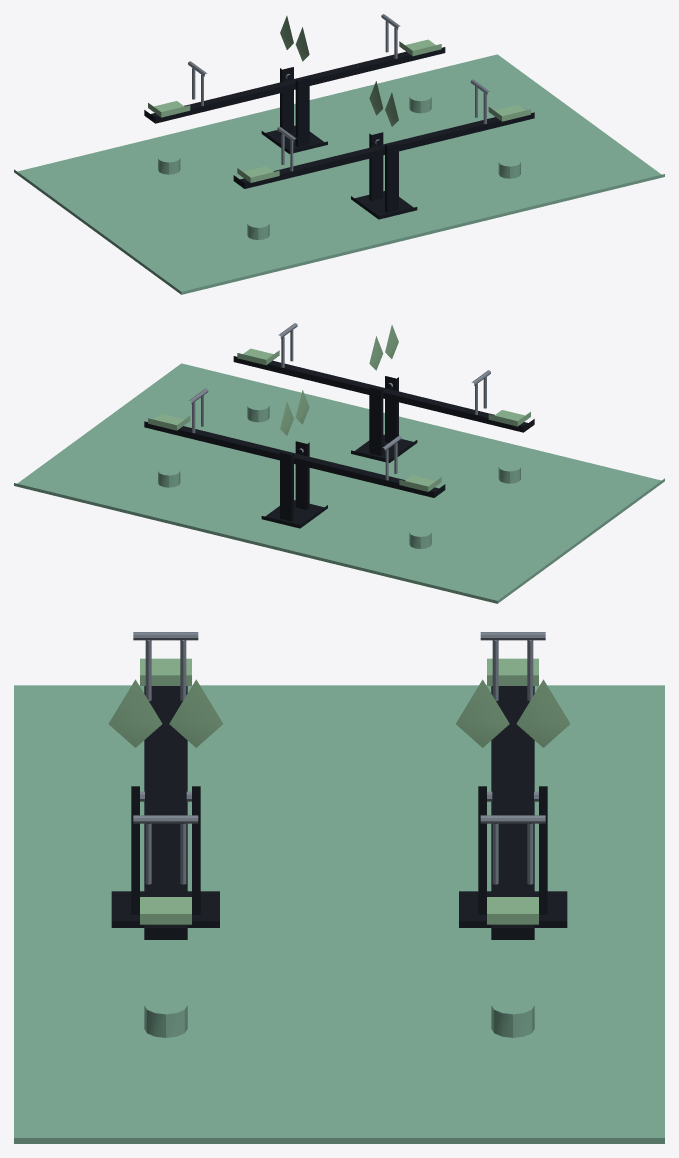
The picture shows the model from 3 angles, top to bottom: view 1: azimuth 30°, elevation 25°; view 2: azimuth 150°, elevation 25°; view 3: azimuth 270°, elevation 25°; orthographic projection. The views are drawn at different scales.
Parts seen in each view (by area): view 1: Safety_Pad, Seesaw1_Beam, Seesaw2_Beam, Fulcrum2, Fulcrum1, Seesaw2_Seats, Seesaw1_Seats, Seesaw2_Handles, Seesaw1_Handles, Bumpers2, Bumpers1, Leaf_Crests2 (+1 smaller); view 2: Safety_Pad, Seesaw2_Beam, Seesaw1_Beam, Fulcrum1, Fulcrum2, Seesaw1_Seats, Seesaw2_Seats, Seesaw1_Handles, Seesaw2_Handles, Bumpers1, Bumpers2, Leaf_Crests1 (+1 smaller); view 3: Safety_Pad, Seesaw1_Beam, Seesaw2_Beam, Fulcrum1, Fulcrum2, Leaf_Crests1, Leaf_Crests2, Seesaw1_Handles, Seesaw2_Handles, Seesaw1_Seats, Seesaw2_Seats, Bumpers1 (+1 smaller).
Part boxes in pixels (x1,y1,x2,y2): Safety_Pad: (14,54,664,294); Seesaw1_Beam: (144,47,445,123); Seesaw2_Beam: (233,112,534,188); Fulcrum2: (351,132,417,219); Fulcrum1: (261,67,327,153); Seesaw2_Seats: (237,105,530,182); Seesaw1_Seats: (148,39,441,117); Seesaw2_Handles: (277,79,489,171); Seesaw1_Handles: (188,14,400,105); Bumpers2: (247,162,520,239); Bumpers1: (158,97,431,174); Leaf_Crests2: (369,81,398,126); Safety_Pad: (14,363,664,603); Seesaw2_Beam: (233,356,534,432); Seesaw1_Beam: (144,421,445,497); Fulcrum1: (261,441,327,528); Fulcrum2: (351,376,417,462); Seesaw1_Seats: (148,414,441,491); Seesaw2_Seats: (237,348,530,426); Seesaw1_Handles: (189,388,401,480); Seesaw2_Handles: (278,323,490,414); Bumpers1: (158,471,431,548); Bumpers2: (247,406,520,483); Leaf_Crests1: (280,390,309,435); Safety_Pad: (14,685,664,1143); Seesaw1_Beam: (491,686,534,939); Seesaw2_Beam: (144,686,187,939); Fulcrum1: (459,786,567,927); Fulcrum2: (111,786,219,927); Leaf_Crests1: (456,679,570,747); Leaf_Crests2: (108,679,222,747); Seesaw1_Handles: (480,632,545,884); Seesaw2_Handles: (133,632,198,884); Seesaw1_Seats: (487,658,538,924); Seesaw2_Seats: (140,658,191,924); Bumpers1: (491,1005,534,1037).
Size of what is drawn, in the model's own units: 5 by 1.2 by 3.
Materials: 4 (2 with a texture image).
